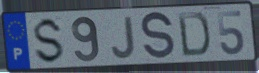5: (216, 9, 246, 57)
9: (70, 15, 102, 64)
D: (176, 11, 212, 58)
J: (110, 15, 137, 61)
S: (140, 10, 177, 63), (33, 16, 66, 66)
